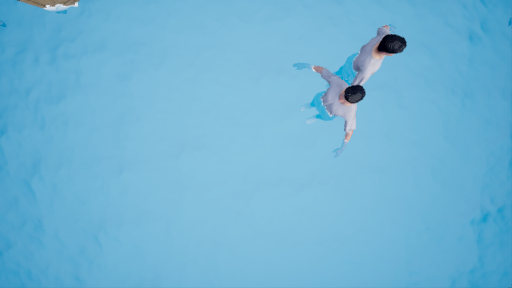person: (343, 25, 413, 122), (303, 59, 366, 150)
